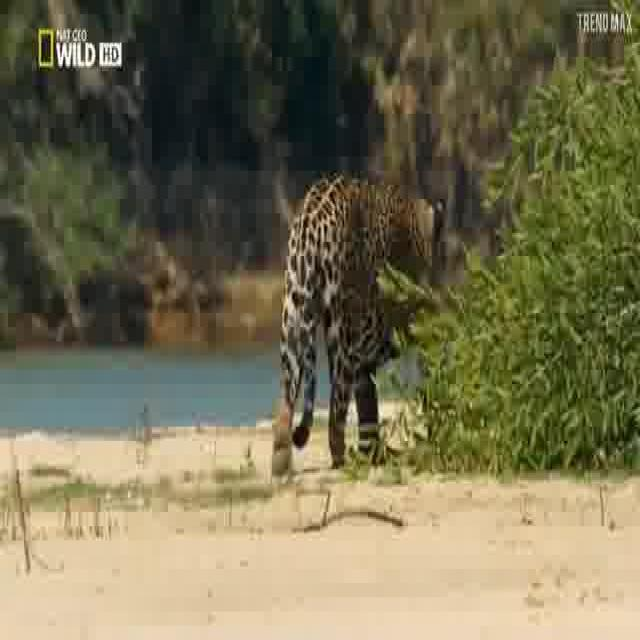Jaguar: (271, 174, 446, 480)
